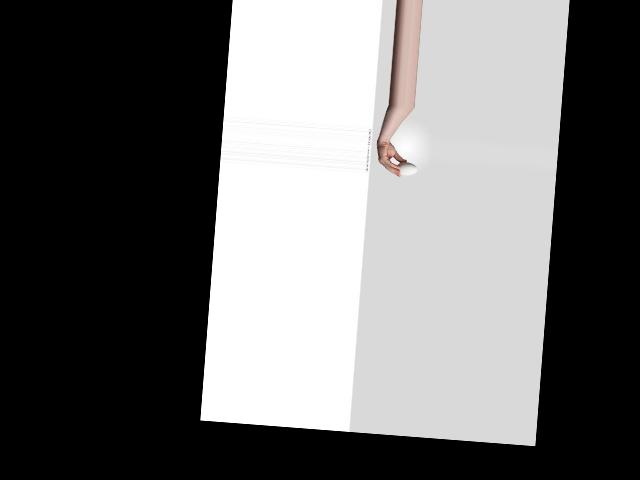egg: (396, 161, 417, 176)
